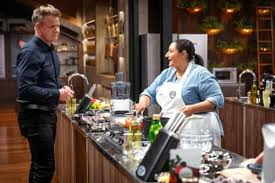Caution: (16, 4, 223, 118)
